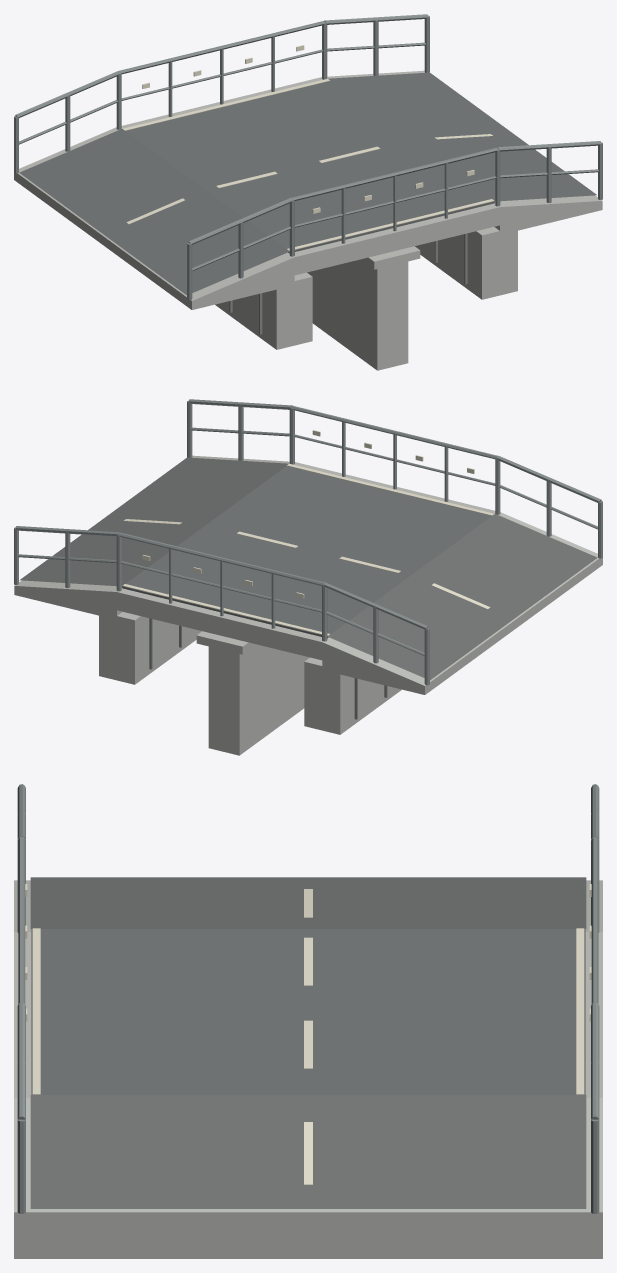
File: Example_CarBridge_Start_2Decks_End.fbx
The picture shows the model from 3 angles, top to bottom: view 1: azimuth 30°, elevation 25°; view 2: azimuth 150°, elevation 25°; view 3: azimuth 270°, elevation 25°; orthographic projection. The views are drawn at different scales.
Visible parts, largest first — view 1: Example_CarBridge_Start_2Decks_End__00_Bridge_Car_StartRamp_, Example_CarBridge_Start_2Decks_End__01_Bridge_Car_Deck_2m, Example_CarBridge_Start_2Decks_End__02_Bridge_Car_Deck_2m, Example_CarBridge_Start_2Decks_End__03_Bridge_Car_EndRamp_2m, Example_CarBridge_Start_2Decks_End__04_Bridge_Car_Pier, Example_CarBridge_Start_2Decks_End__06_Bridge_Car_Abutment, Example_CarBridge_Start_2Decks_End__05_Bridge_Car_Abutment; view 2: Example_CarBridge_Start_2Decks_End__00_Bridge_Car_StartRamp_, Example_CarBridge_Start_2Decks_End__01_Bridge_Car_Deck_2m, Example_CarBridge_Start_2Decks_End__02_Bridge_Car_Deck_2m, Example_CarBridge_Start_2Decks_End__03_Bridge_Car_EndRamp_2m, Example_CarBridge_Start_2Decks_End__04_Bridge_Car_Pier, Example_CarBridge_Start_2Decks_End__06_Bridge_Car_Abutment, Example_CarBridge_Start_2Decks_End__05_Bridge_Car_Abutment; view 3: Example_CarBridge_Start_2Decks_End__03_Bridge_Car_EndRamp_2m, Example_CarBridge_Start_2Decks_End__01_Bridge_Car_Deck_2m, Example_CarBridge_Start_2Decks_End__02_Bridge_Car_Deck_2m, Example_CarBridge_Start_2Decks_End__00_Bridge_Car_StartRamp_, Example_CarBridge_Start_2Decks_End__06_Bridge_Car_Abutment.
Part boxes in pixels (<box>): Example_CarBridge_Start_2Decks_End__00_Bridge_Car_StartRamp_: <box>14,71,294,309</box>; Example_CarBridge_Start_2Decks_End__01_Bridge_Car_Deck_2m: <box>119,46,397,275</box>; Example_CarBridge_Start_2Decks_End__02_Bridge_Car_Deck_2m: <box>220,21,499,250</box>; Example_CarBridge_Start_2Decks_End__03_Bridge_Car_EndRamp_2m: <box>322,14,602,234</box>; Example_CarBridge_Start_2Decks_End__04_Bridge_Car_Pier: <box>307,246,420,370</box>; Example_CarBridge_Start_2Decks_End__06_Bridge_Car_Abutment: <box>415,227,517,299</box>; Example_CarBridge_Start_2Decks_End__05_Bridge_Car_Abutment: <box>215,272,312,349</box>; Example_CarBridge_Start_2Decks_End__00_Bridge_Car_StartRamp_: <box>322,456,602,694</box>; Example_CarBridge_Start_2Decks_End__01_Bridge_Car_Deck_2m: <box>219,431,497,660</box>; Example_CarBridge_Start_2Decks_End__02_Bridge_Car_Deck_2m: <box>117,406,395,635</box>; Example_CarBridge_Start_2Decks_End__03_Bridge_Car_EndRamp_2m: <box>14,399,294,619</box>; Example_CarBridge_Start_2Decks_End__04_Bridge_Car_Pier: <box>196,631,309,755</box>; Example_CarBridge_Start_2Decks_End__06_Bridge_Car_Abutment: <box>99,612,201,684</box>; Example_CarBridge_Start_2Decks_End__05_Bridge_Car_Abutment: <box>304,657,401,734</box>; Example_CarBridge_Start_2Decks_End__03_Bridge_Car_EndRamp_2m: <box>14,1002,602,1227</box>; Example_CarBridge_Start_2Decks_End__01_Bridge_Car_Deck_2m: <box>14,837,602,1014</box>; Example_CarBridge_Start_2Decks_End__02_Bridge_Car_Deck_2m: <box>14,920,602,1097</box>; Example_CarBridge_Start_2Decks_End__00_Bridge_Car_StartRamp_: <box>14,784,602,932</box>; Example_CarBridge_Start_2Decks_End__06_Bridge_Car_Abutment: <box>14,1227,602,1258</box>.
Bounding box in the file's own units: 809 × 365 × 600.
